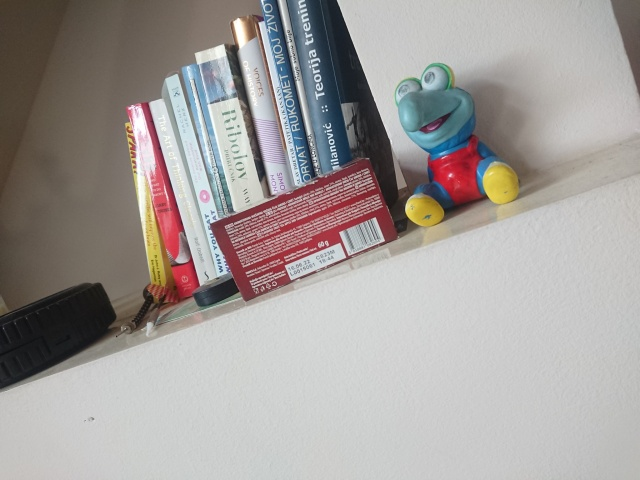Franck Apple Cinnamon Tea 60g: (206, 155, 401, 303)
